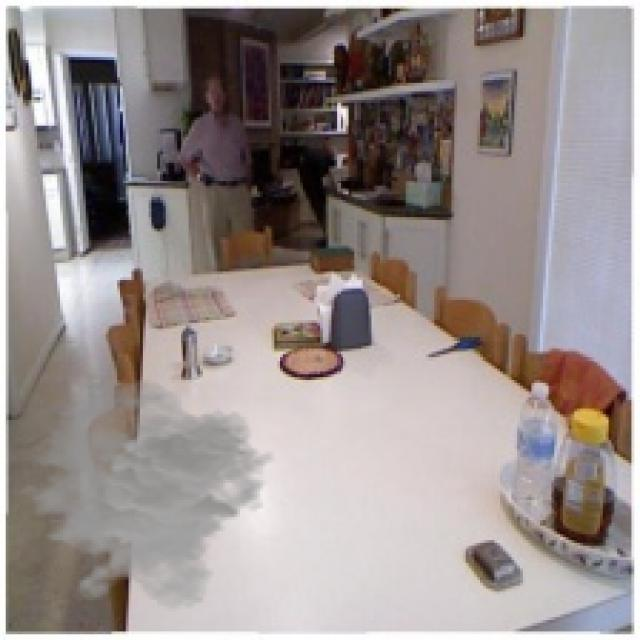smoke: (6, 377, 277, 612)
